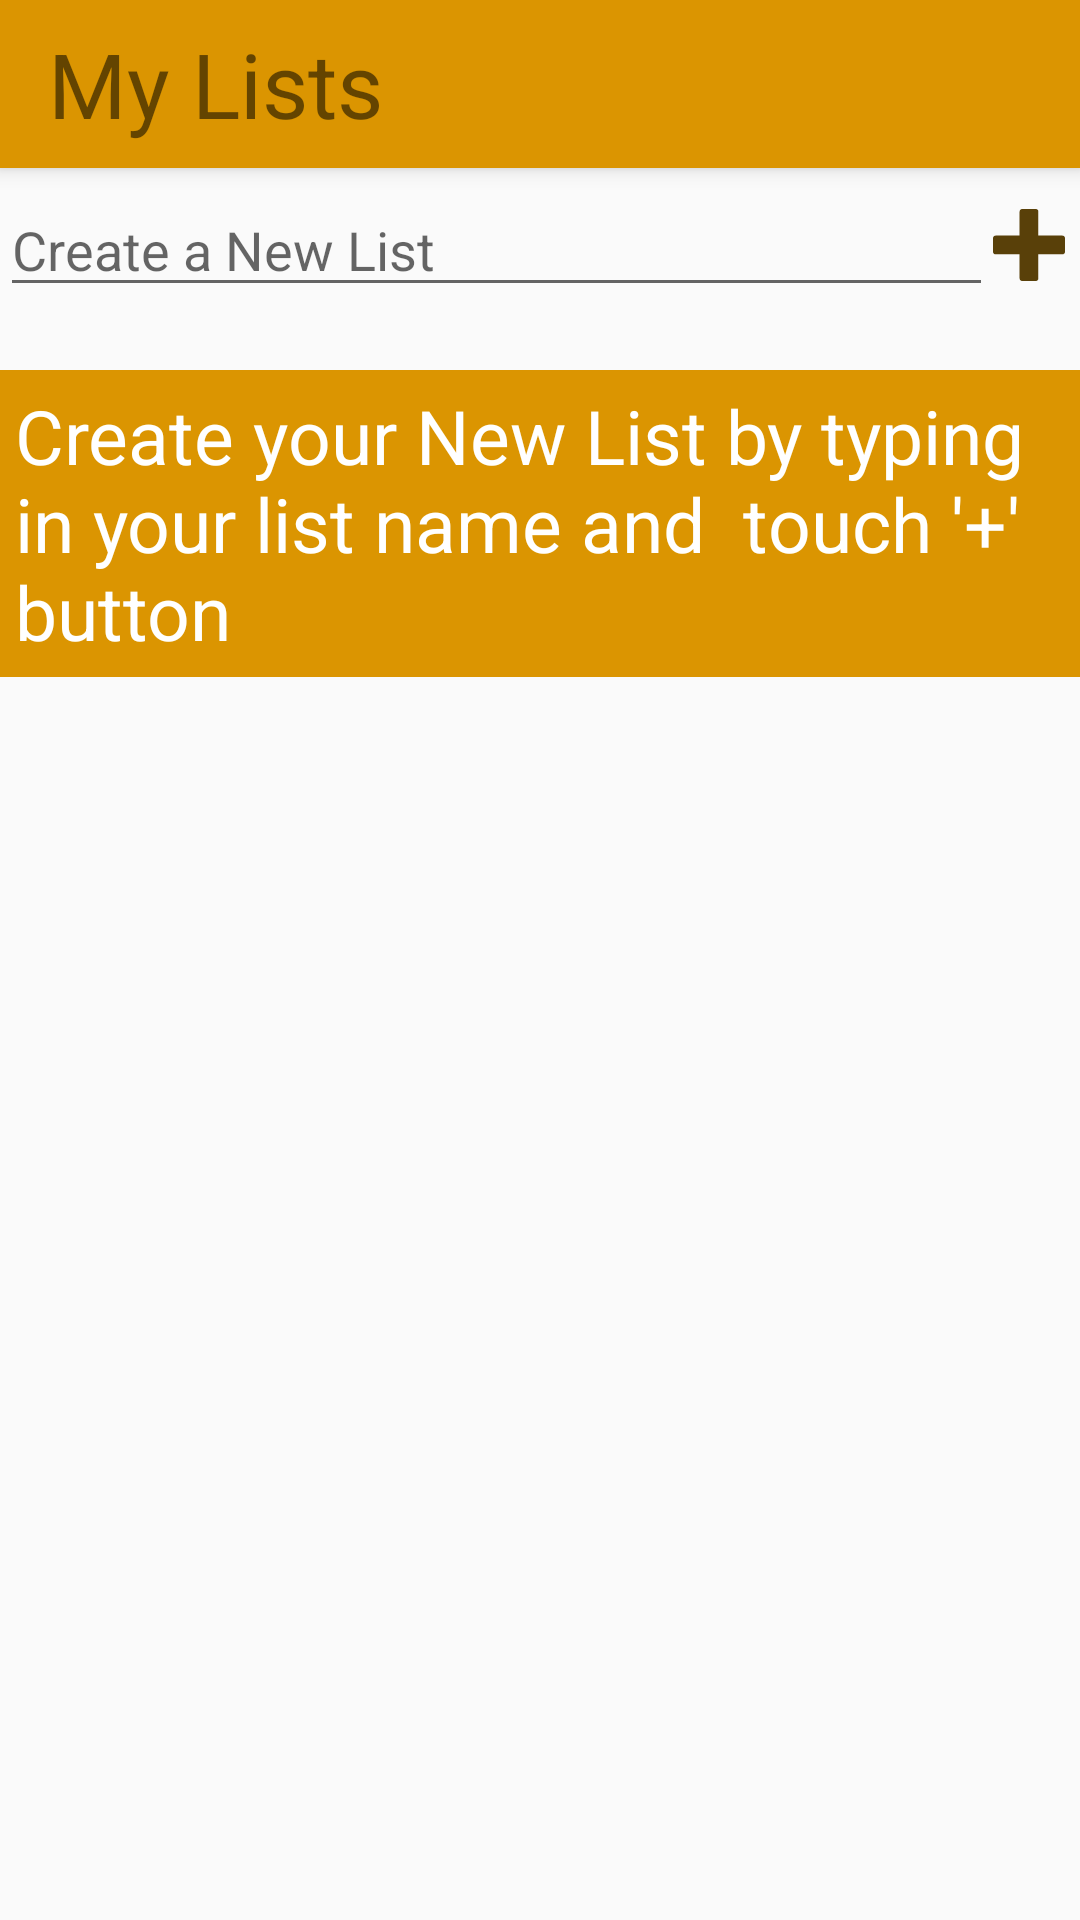

Named icons in this screenshot (1080*1920) and their centers, (x,y):
plus symbol: (1029,245)
